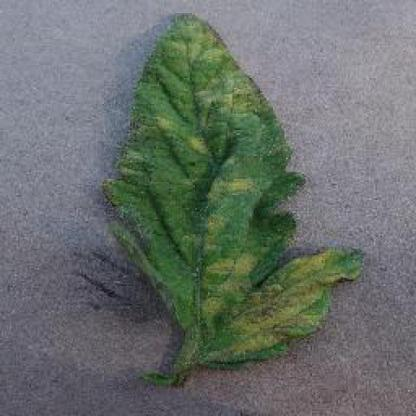Tomato_Leaf_Mold: (105, 13, 365, 360)
